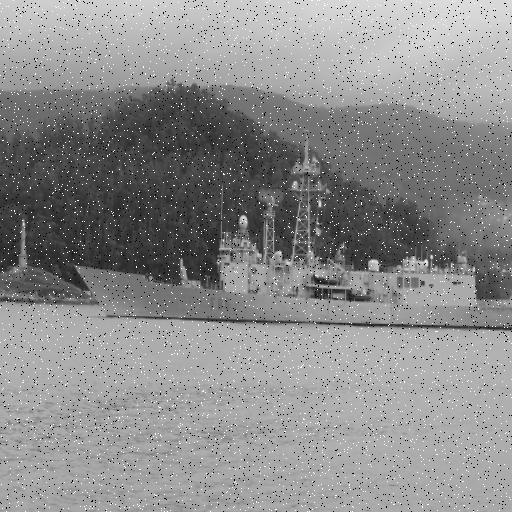Fragata: (69, 126, 512, 334)
